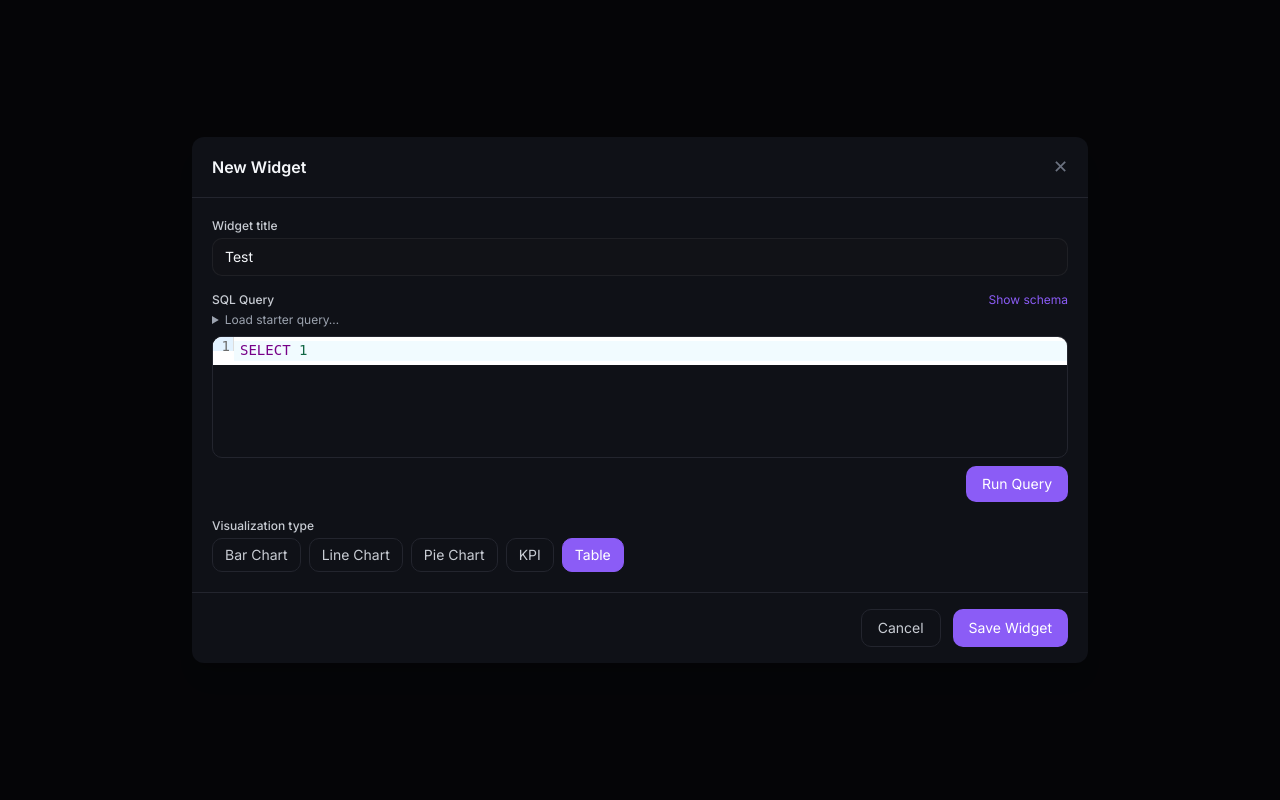
Test case: WidgetEditor › handles preview failure without JSON error
Click the button "Run Query".
click(1017, 484)  # box x1=966 y1=466 x2=1068 y2=502
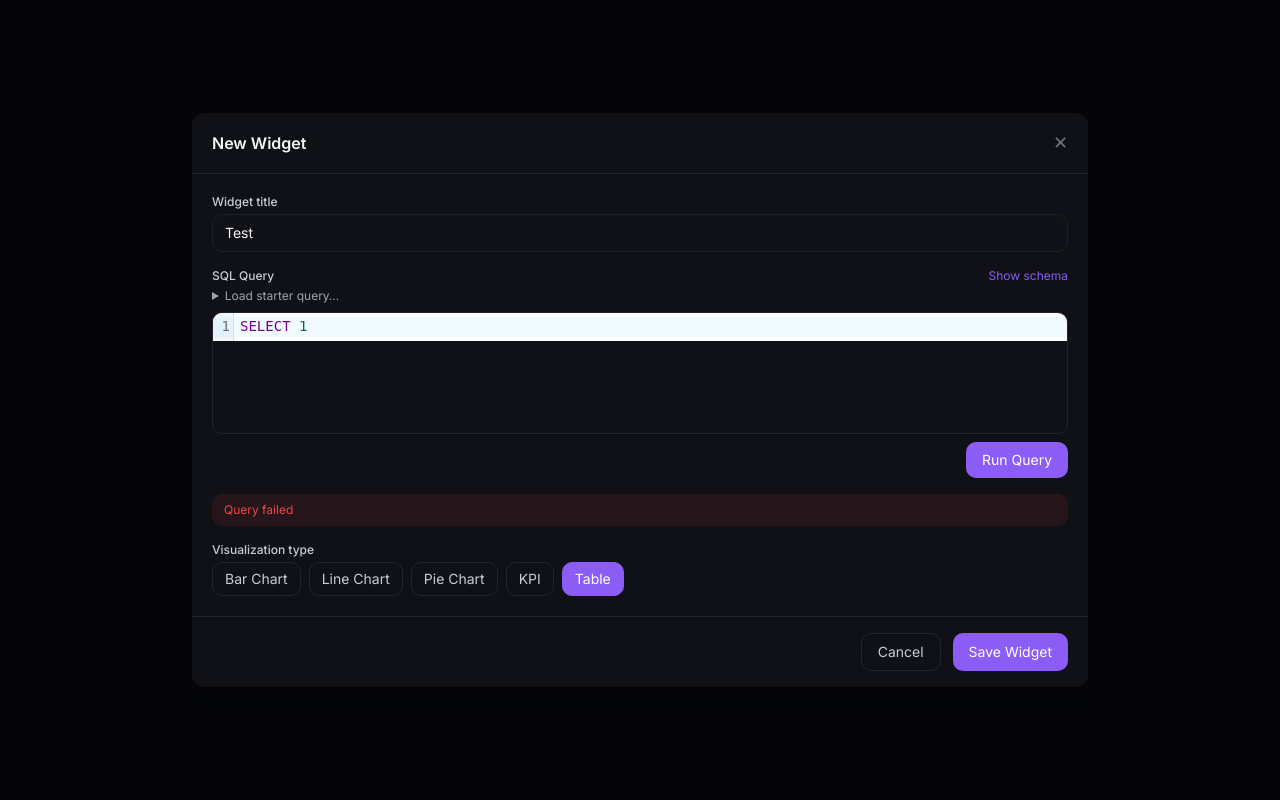
Check: the text "Query failed" is shown, box x1=212 y1=494 x2=1068 y2=526
